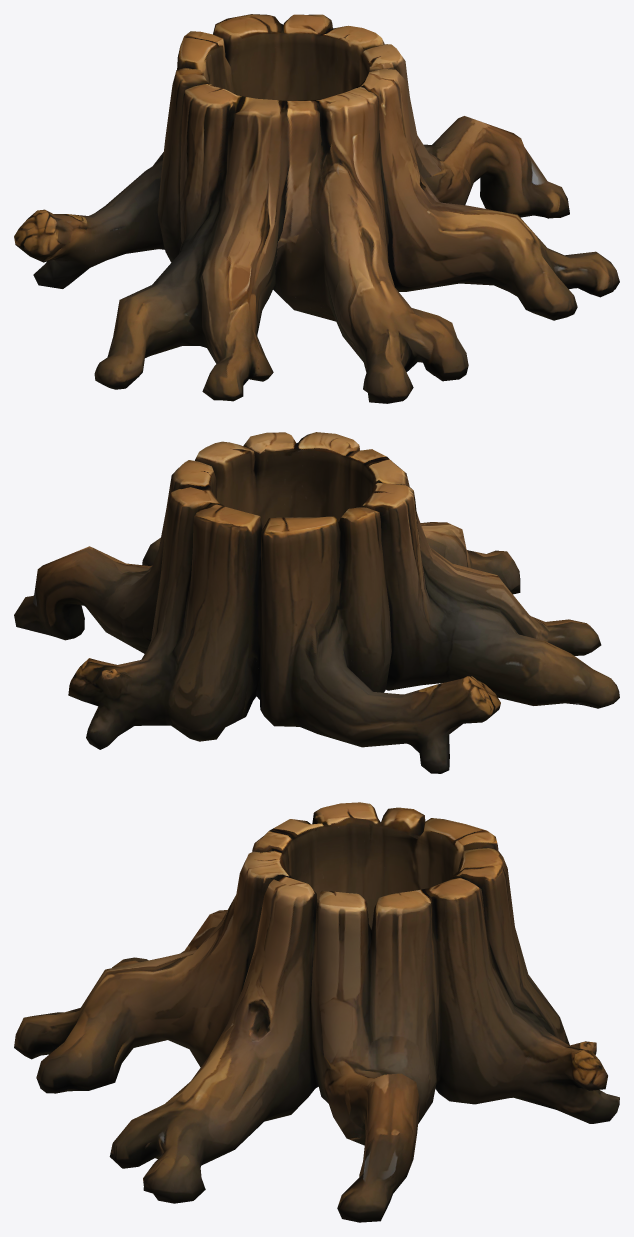
Rendered from tocon_de_arbol.fbx.
The picture shows the model from 3 angles, top to bottom: view 1: azimuth 30°, elevation 25°; view 2: azimuth 150°, elevation 25°; view 3: azimuth 270°, elevation 25°; orthographic projection. The views are drawn at different scales.
Visible parts, largest first — view 1: tripo_node_2a2e628d; view 2: tripo_node_2a2e628d; view 3: tripo_node_2a2e628d.
Part boxes in pixels (x1,y1,x2,y2): tripo_node_2a2e628d: (14, 14, 619, 403); tripo_node_2a2e628d: (14, 432, 619, 773); tripo_node_2a2e628d: (14, 802, 619, 1222).
Bounding box in the file's own units: 99.63 × 38.07 × 91.65.
Materials: 1 (1 with a texture image).
